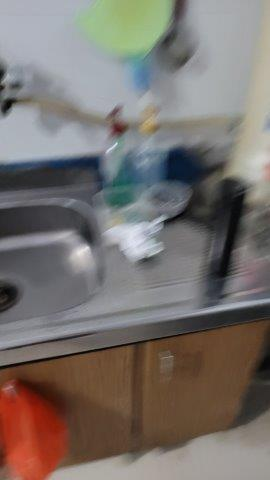kertas: (99, 212, 170, 266)
